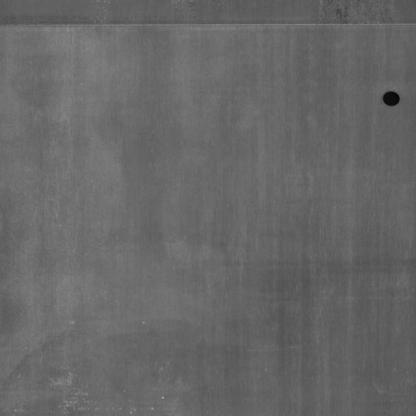punching_hole: (379, 85, 402, 111)
welding_line: (0, 11, 416, 40)
